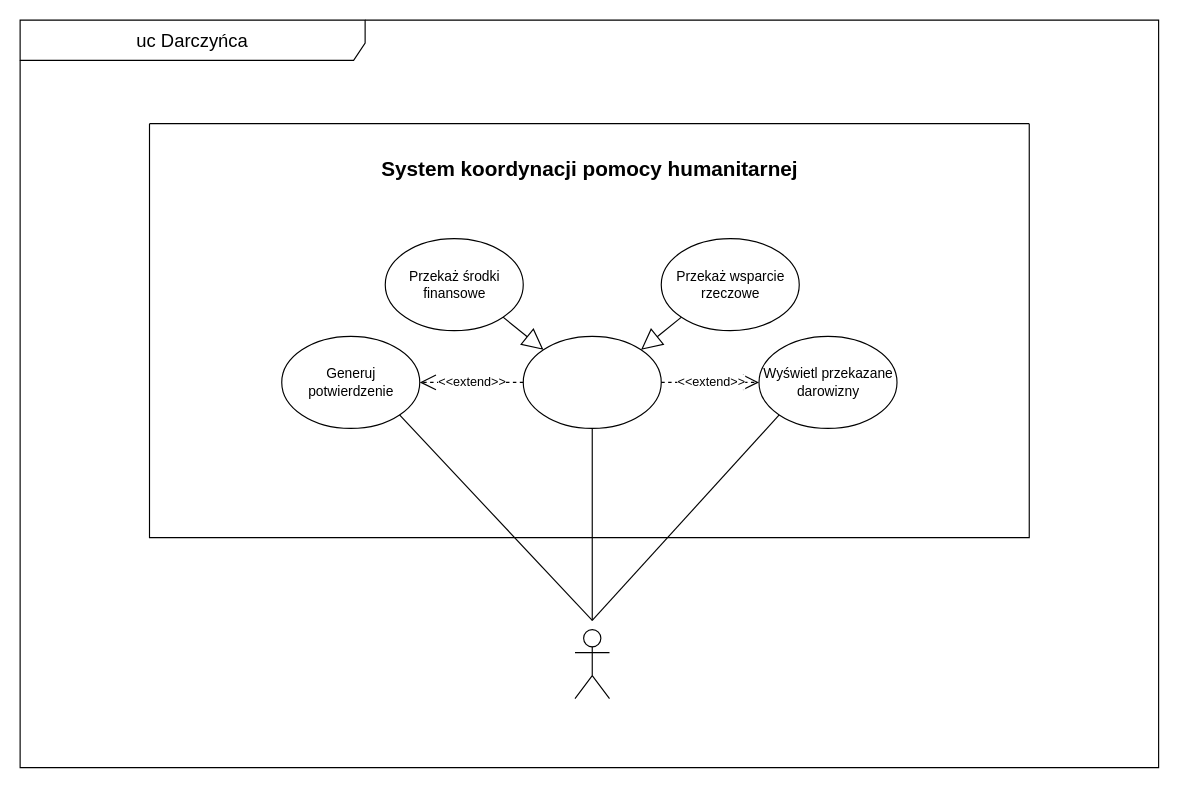
Some shapes in this 1179 by 788 pixel diagram are drawn without their labels. The box of each missing label's shape, as (x1, y1, x2, y2) in pixels:
Darczyńca: (574, 628, 610, 699)
Przekaż dary: (522, 335, 661, 428)
